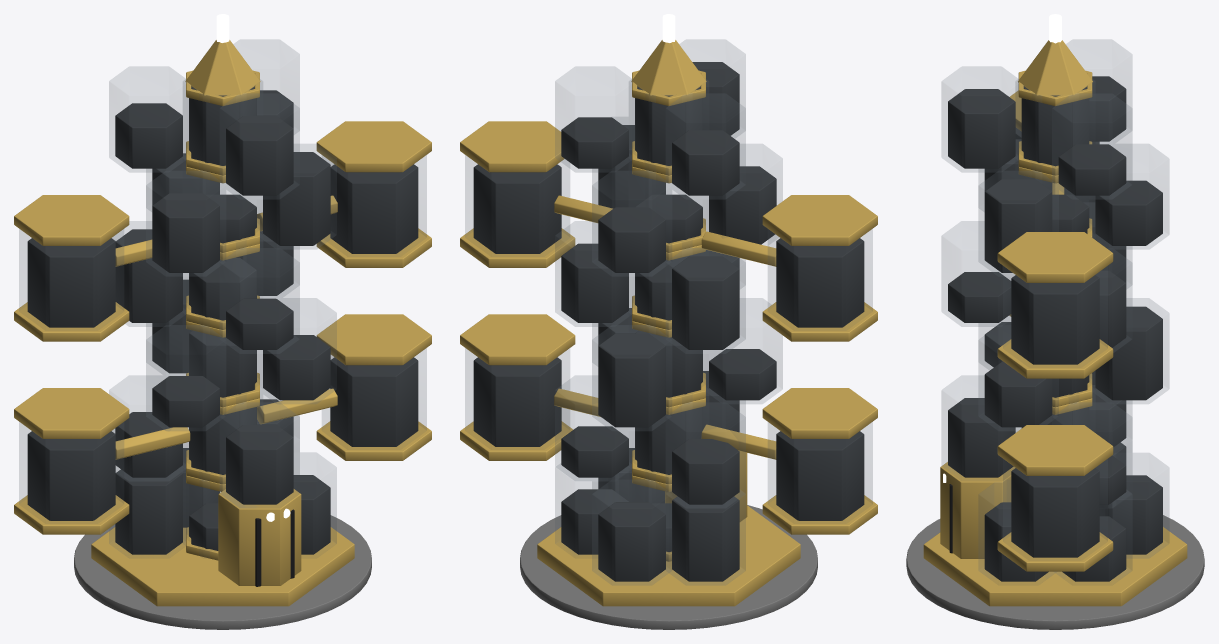
File: Skin_Hive_T3.glb
3 views of the same model, side by side, from view 1: azimuth 30°, elevation 25°; view 2: azimuth 150°, elevation 25°; view 3: azimuth 270°, elevation 25° (orthographic).
Visible parts, largest first — view 1: Skin_Hive_T3; view 2: Skin_Hive_T3; view 3: Skin_Hive_T3.
Boxes of the visible parts, <box> form: Skin_Hive_T3: <box>14,14,431,629</box>; Skin_Hive_T3: <box>460,14,877,629</box>; Skin_Hive_T3: <box>906,14,1204,629</box>.
Bounding box in the file's own units: 5.28 × 7.14 × 3.5.
